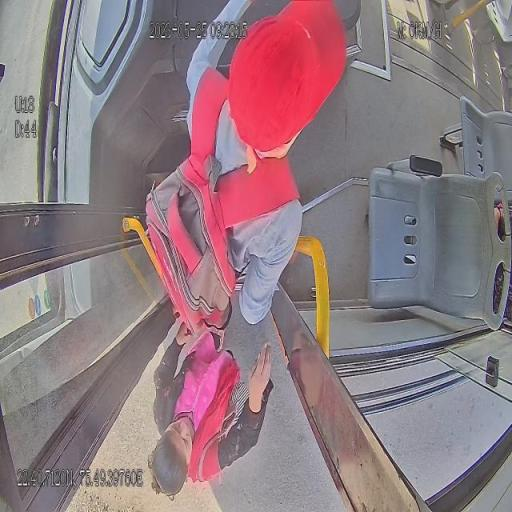persona: (144, 0, 348, 346), (150, 322, 274, 498)
